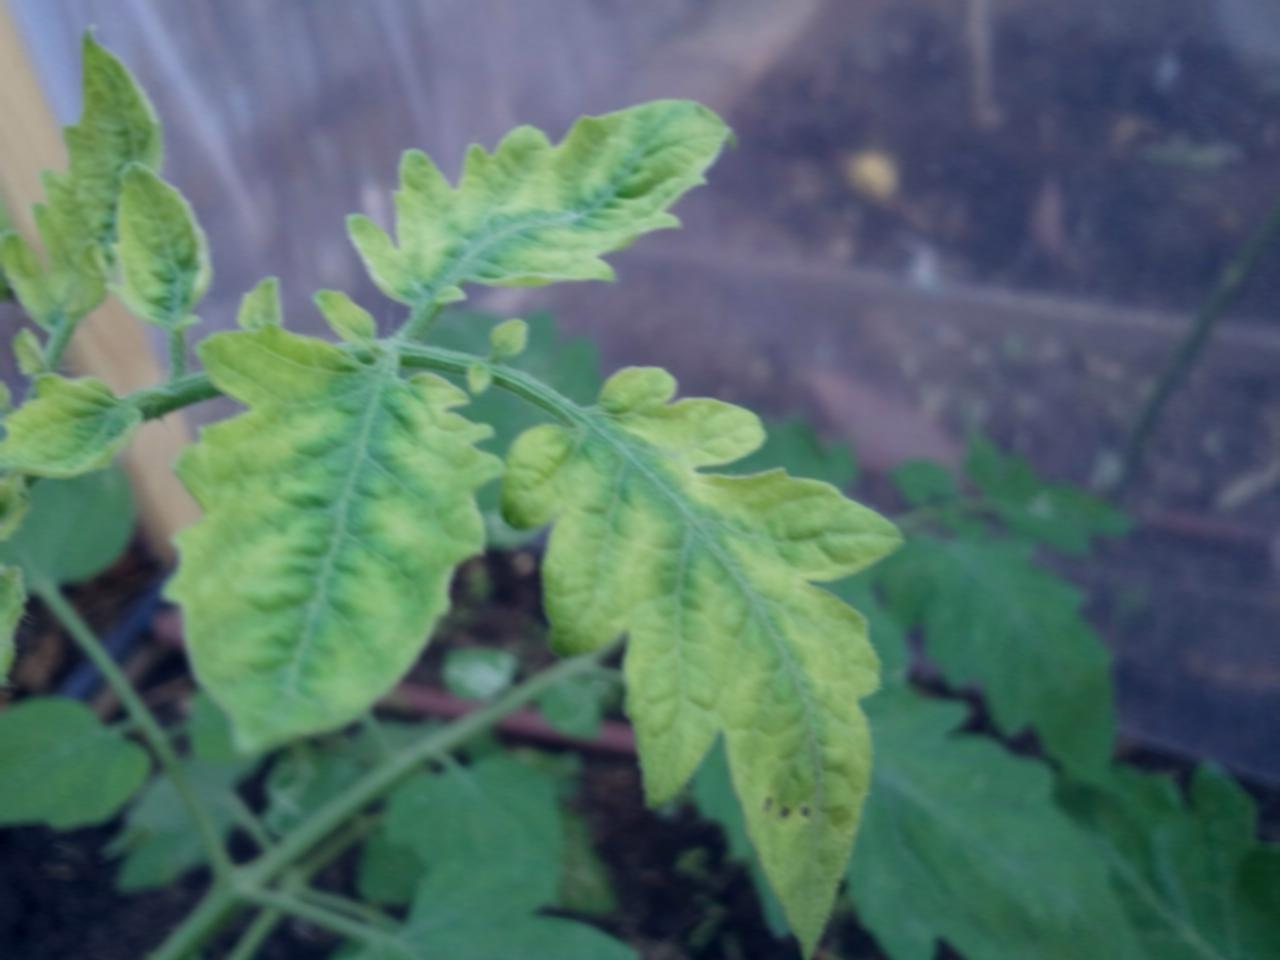Tomato leaf yellow virus: (504, 355, 881, 960), (149, 343, 481, 813), (356, 77, 789, 326), (12, 18, 176, 317), (119, 152, 221, 330)
